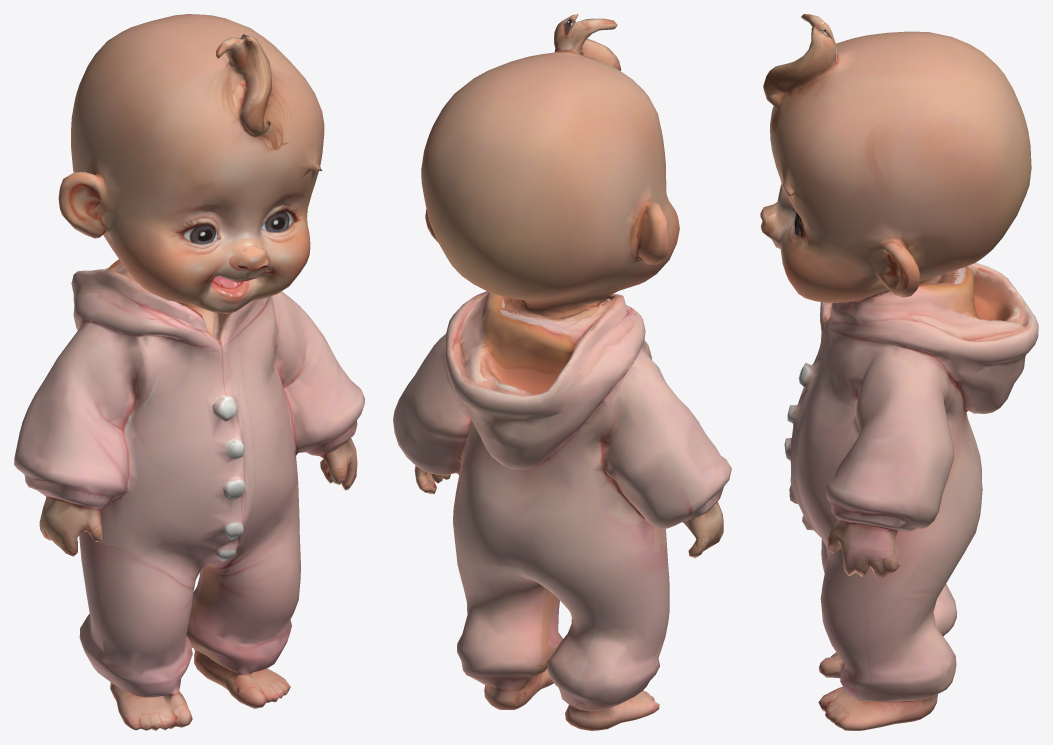
The model's file is baby.glb.
The picture shows the model from 3 angles, left to right: view 1: azimuth 30°, elevation 25°; view 2: azimuth 150°, elevation 25°; view 3: azimuth 270°, elevation 25°; orthographic projection. The views are drawn at different scales.
Bounding box in the file's own units: 32868 × 65630 × 24398.
Materials: 1 (1 with a texture image).
